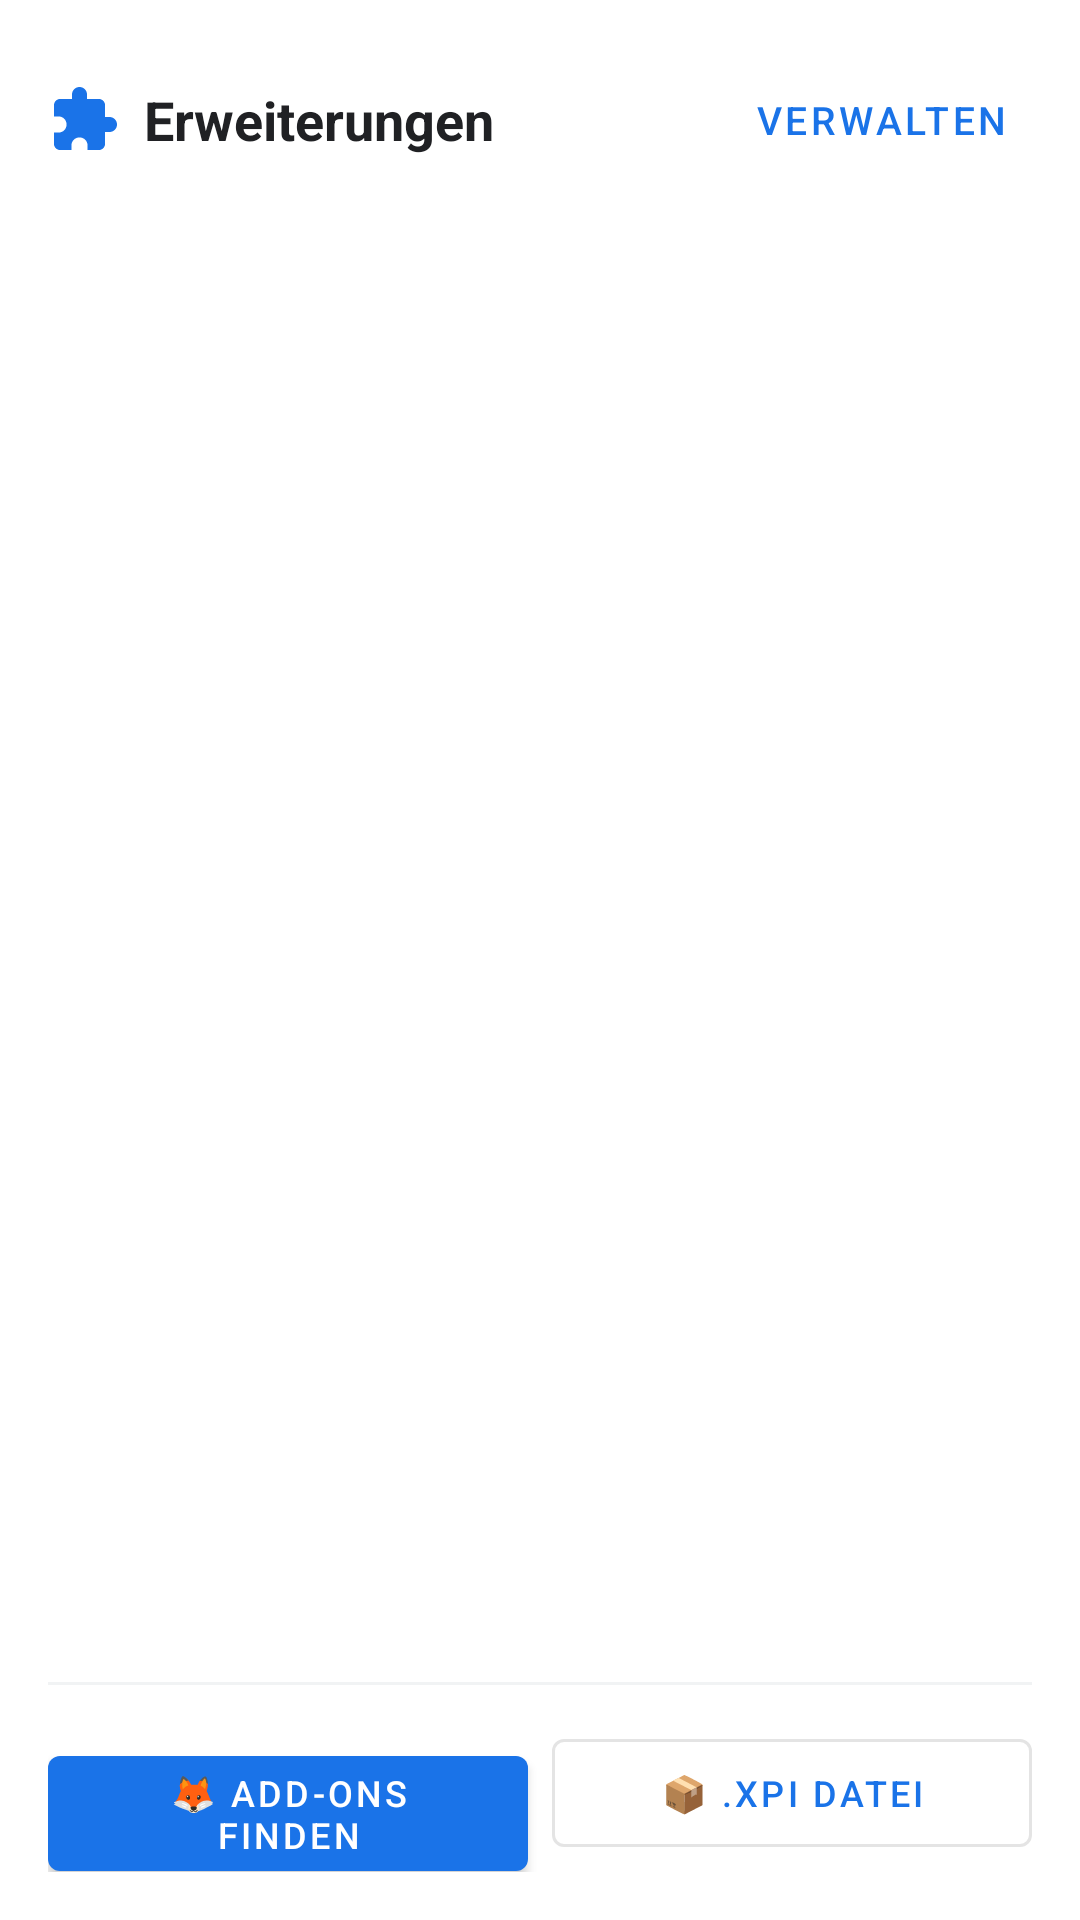

Point at icon controls on the screen. Image size 1080*1920, points as [x,y].
extension: [85,118]
